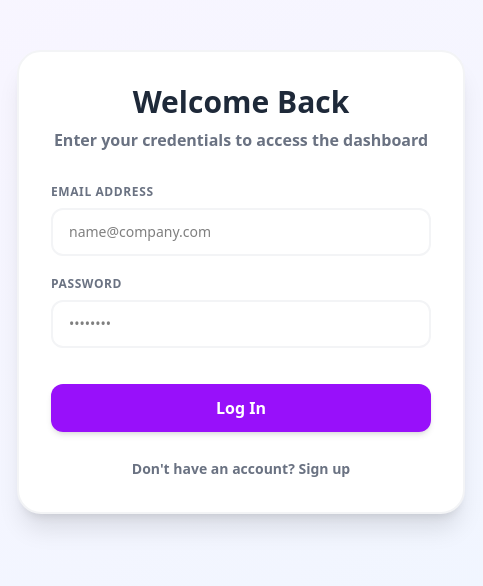
Login Component Test Suite › [UI-03] Displays an error if the user submits an empty form
The image size is (483, 586).
What coordinates should you click on to do the following:
click the button "Log In"
I would click on:
 (241, 408)
Its box is [51,384,431,432].
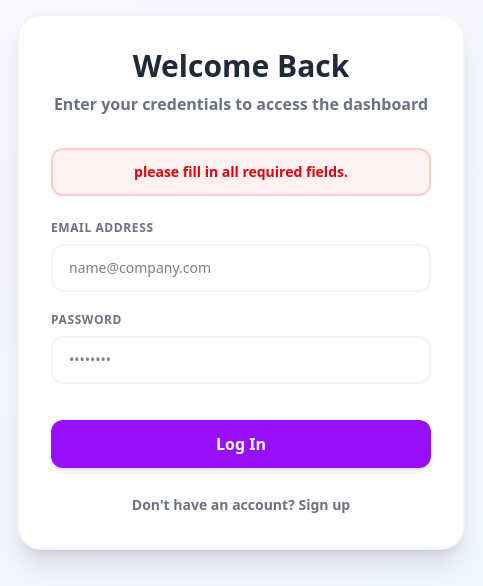
Check: the text "please fill in all required fields." is shown, box [51,148,431,196]
